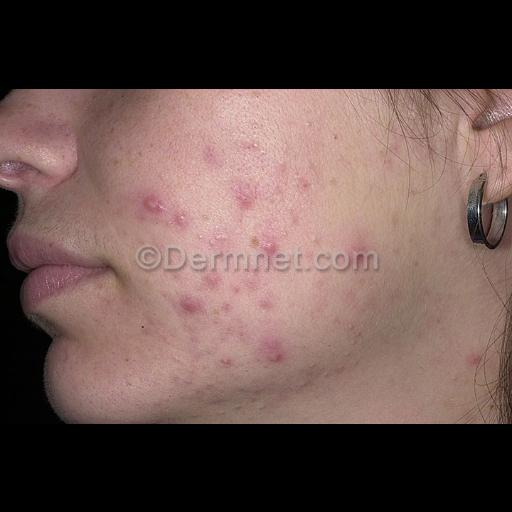Skin_Lesion: (138, 189, 192, 237), (260, 326, 290, 370), (252, 286, 276, 328), (178, 281, 202, 319), (256, 226, 286, 256), (230, 181, 258, 213), (209, 347, 237, 373), (214, 88, 264, 102), (200, 142, 222, 168), (202, 269, 224, 291), (350, 236, 372, 256), (298, 172, 314, 194), (464, 346, 480, 366), (64, 88, 82, 98)
